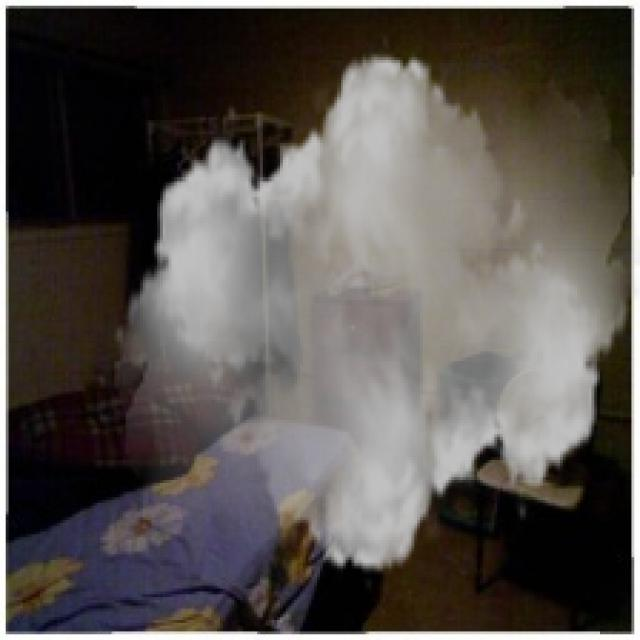smoke: (114, 32, 637, 597)
